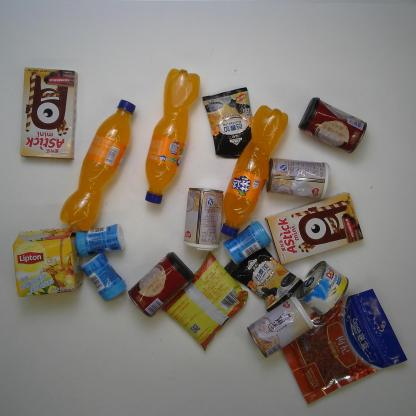Canned Food: (126, 248, 197, 320), (245, 292, 317, 361), (294, 94, 370, 154), (180, 179, 232, 255), (263, 156, 333, 204), (296, 258, 351, 318)
Dessert: (262, 189, 366, 267), (16, 62, 80, 164)
Dried Fruit: (278, 285, 410, 409)
Drink: (58, 96, 138, 233), (219, 102, 289, 240), (143, 65, 202, 208)
Gum: (78, 250, 129, 304), (221, 218, 276, 268), (70, 222, 126, 258)
Instant Drink: (221, 243, 305, 314), (9, 224, 87, 300), (200, 84, 265, 162)
Seasoner: (158, 245, 252, 355)
